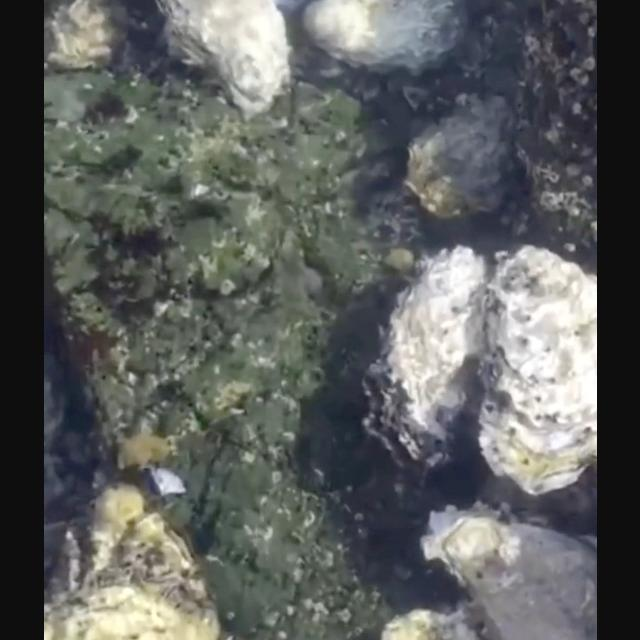Oyster-Closed: (474, 247, 596, 501), (43, 487, 220, 640), (417, 504, 597, 640), (150, 0, 290, 128), (402, 100, 514, 226), (302, 0, 462, 78), (43, 0, 130, 78)
Oyster-Open: (359, 246, 489, 480)
